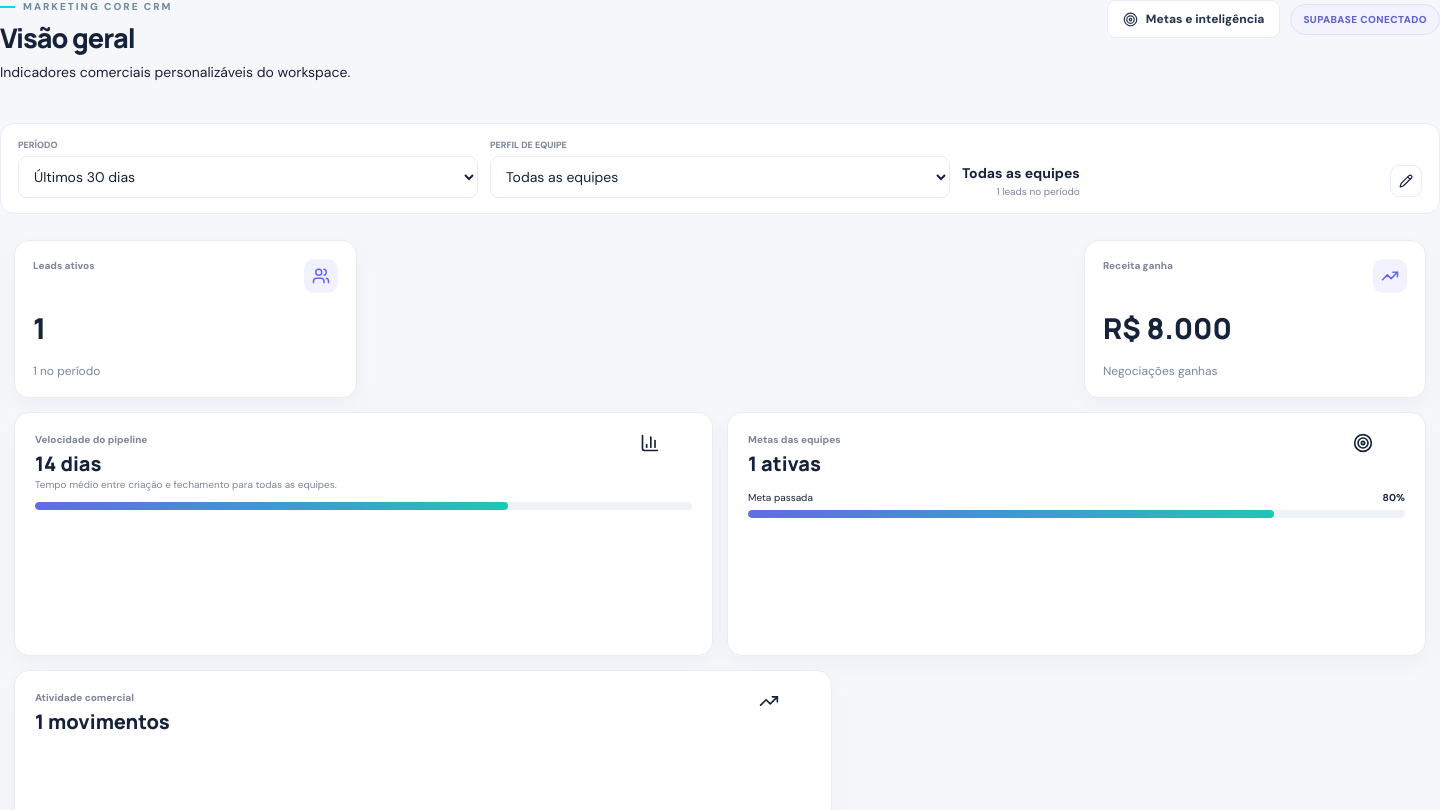
Test: DashboardPage › requires confirmation before deleting a historical goal
Click the button "Metas e inteligência": (1194, 19) [1107,0,1280,38]
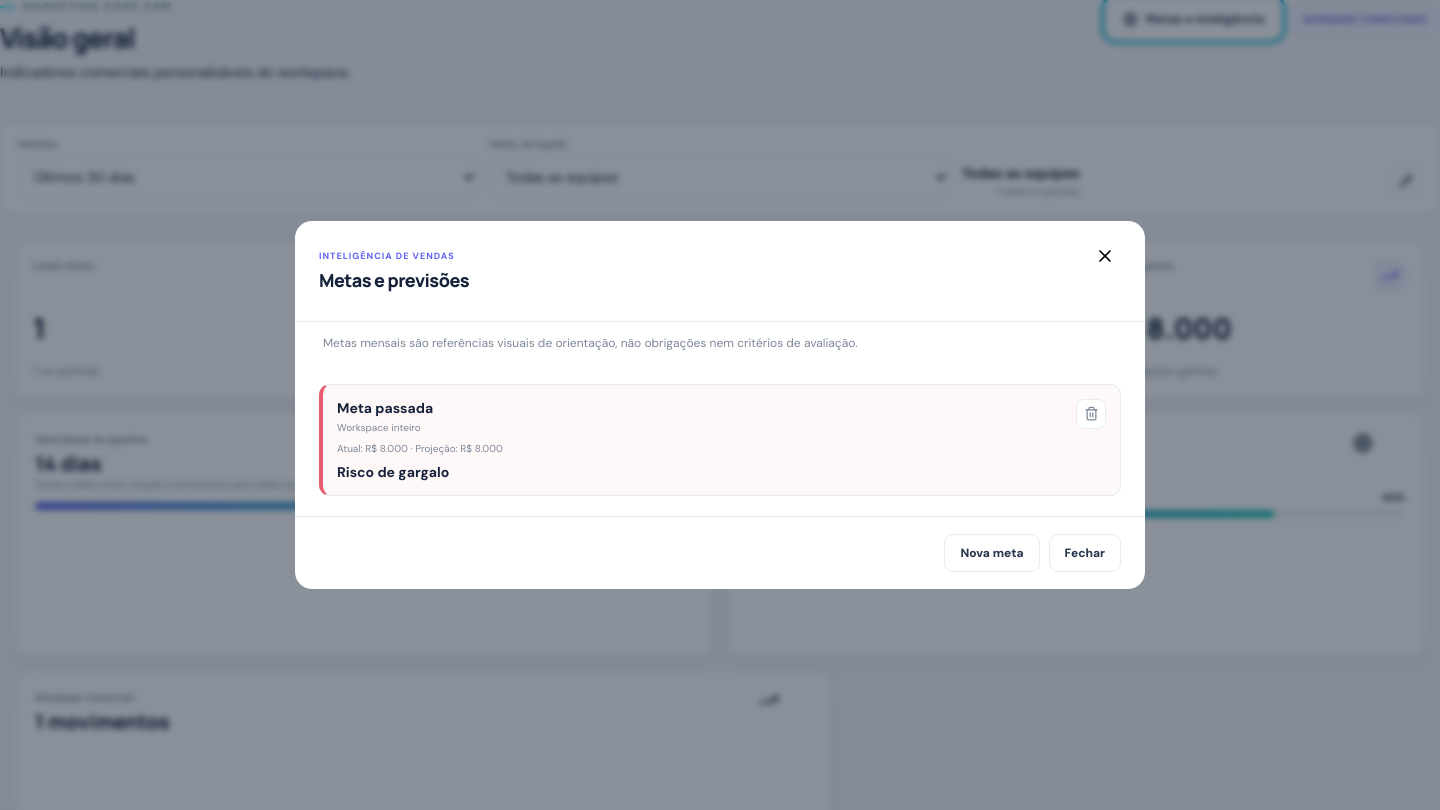
Click the button named "Excluir meta Meta passada": (1091, 414) [1076,399,1106,429]
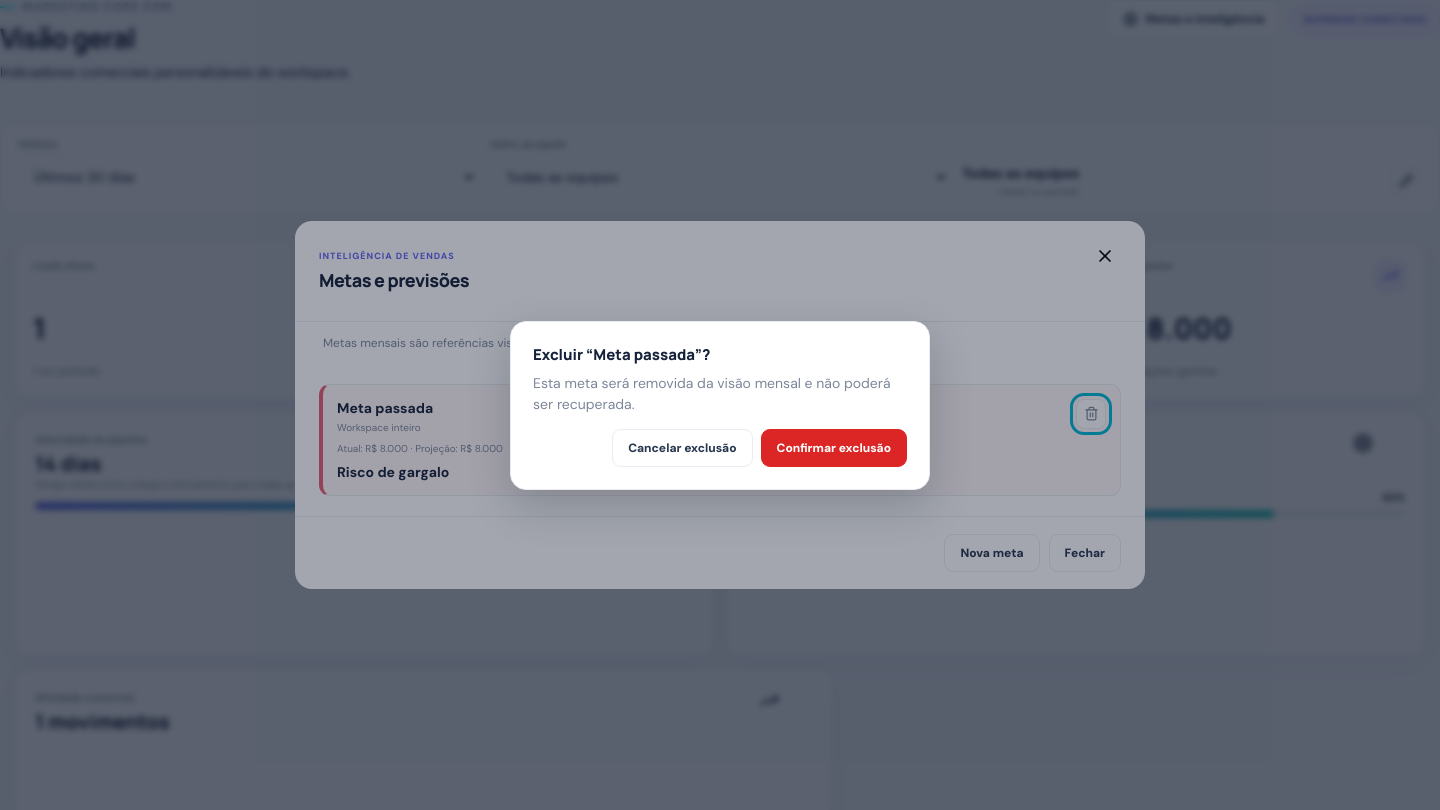
Click the button "Cancelar exclusão": (682, 448) [612,428,752,466]
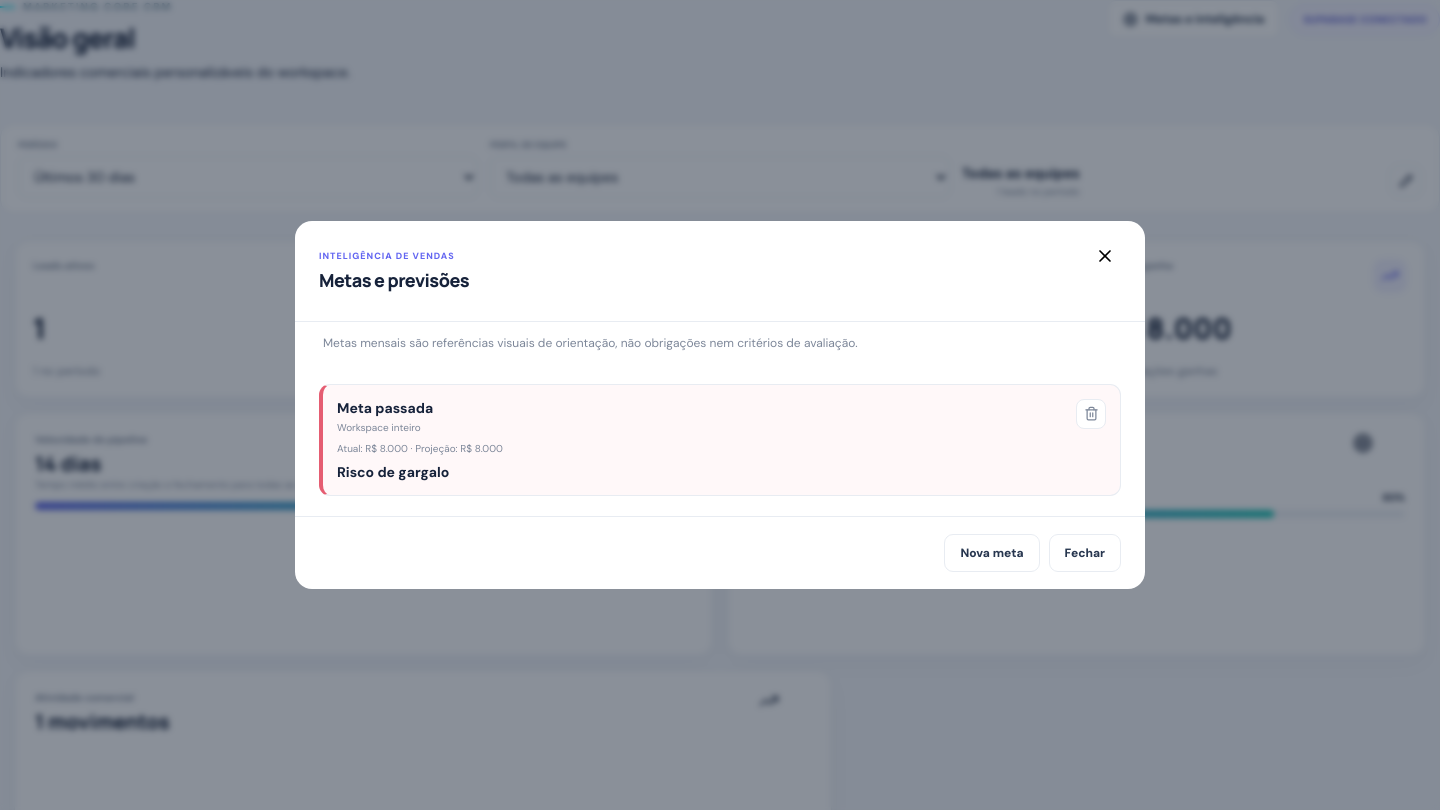
Click the button named "Excluir meta Meta passada": (1091, 414) [1076,399,1106,429]
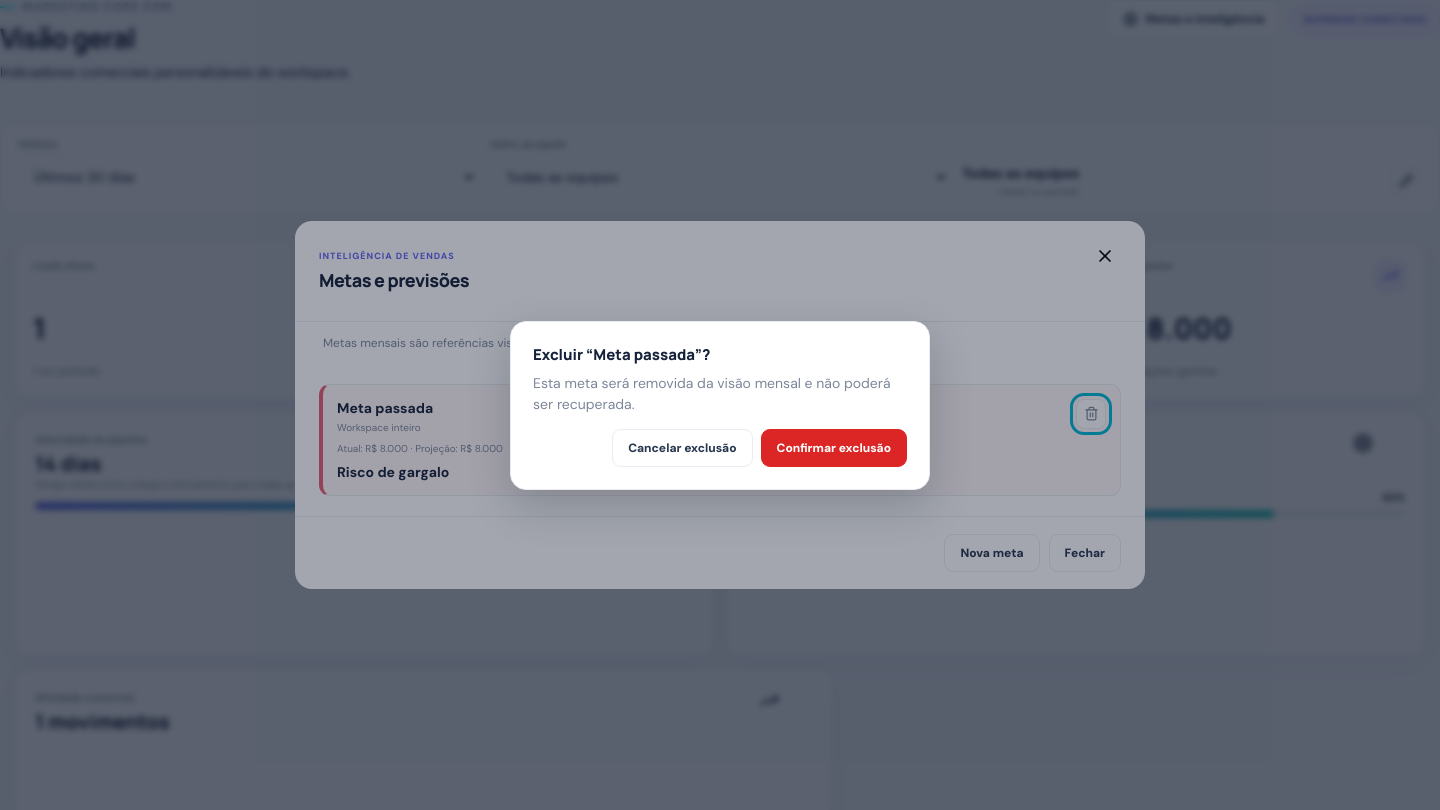
Click the button "Confirmar exclusão": (834, 448) [760,428,907,466]
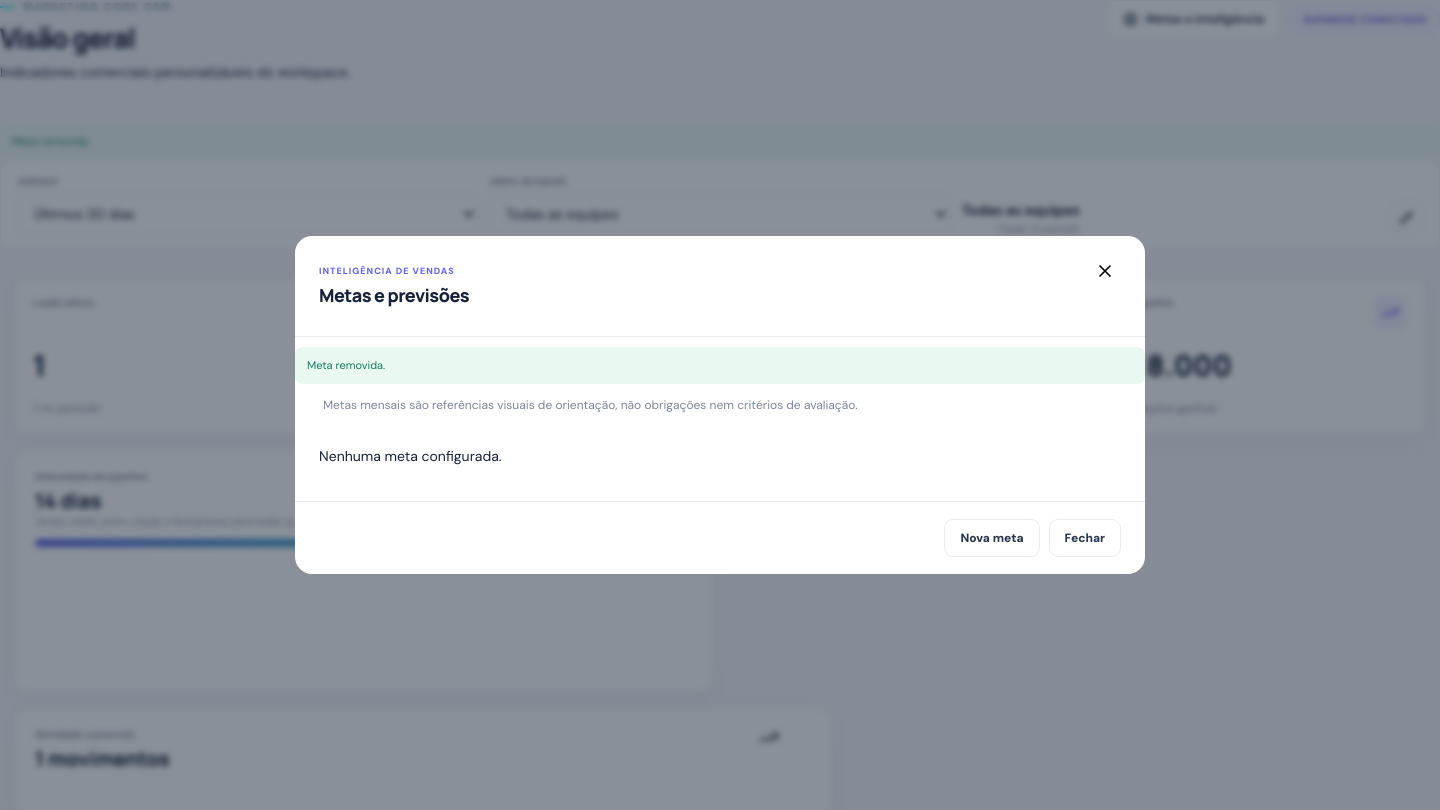
Expected: the text "Nenhuma meta configurada." is shown, [319,447,502,465]
